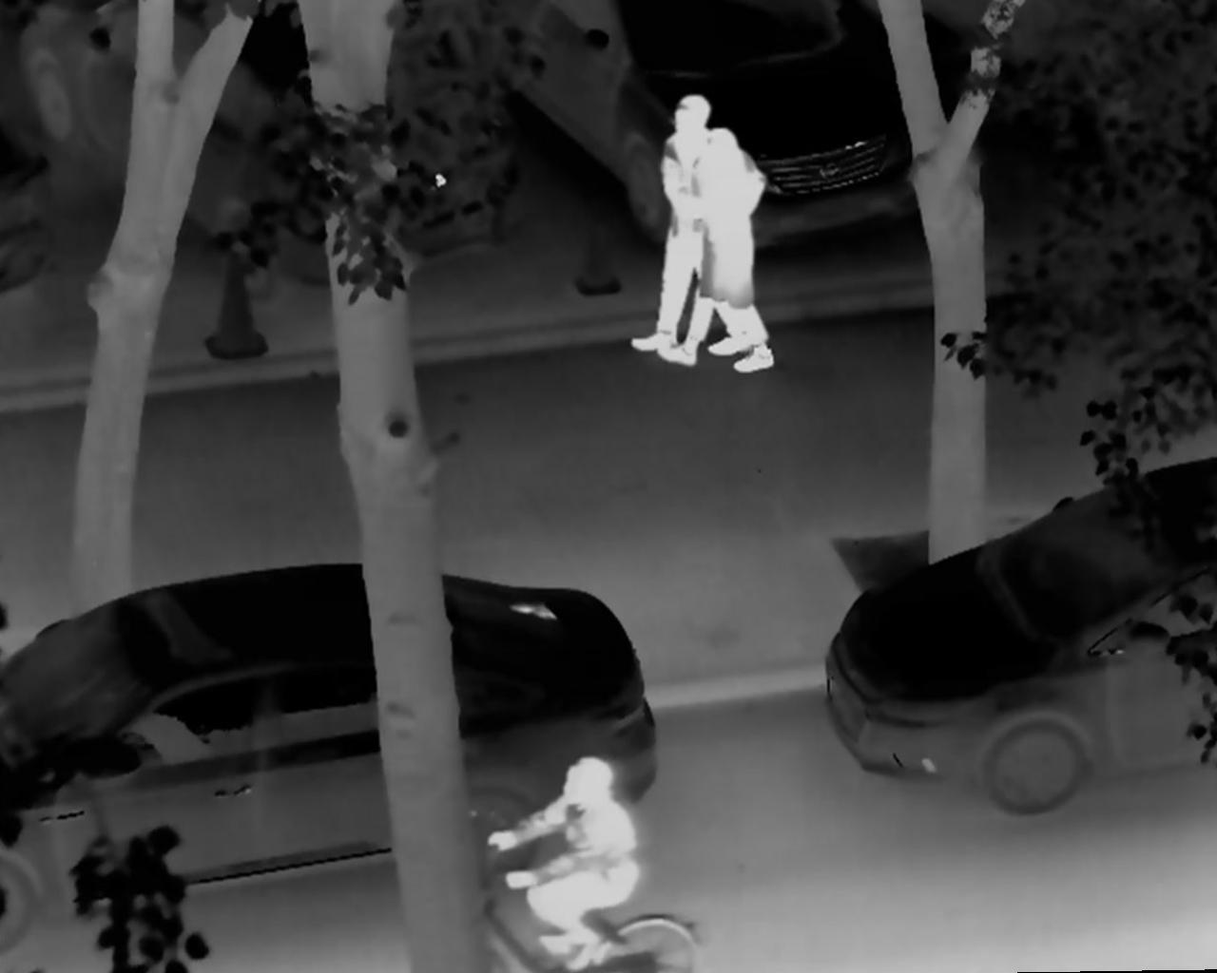person: (477, 748, 645, 973), (628, 94, 750, 360), (657, 132, 775, 374)
